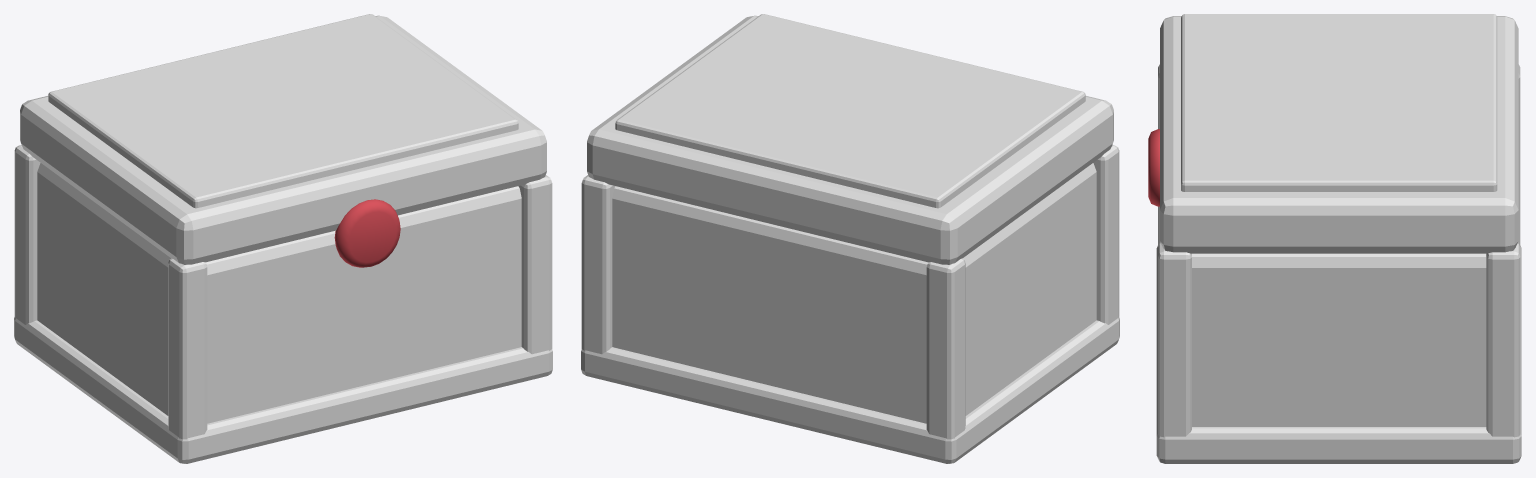
Rendered from SM_Box_WoodCrate.fbx.
The picture shows the model from 3 angles, left to right: view 1: azimuth 30°, elevation 25°; view 2: azimuth 150°, elevation 25°; view 3: azimuth 270°, elevation 25°; orthographic projection. The views are drawn at different scales.
Visible parts, largest first — view 1: LidPivot, Body, BaseRim, Corner_1_-1, Corner_1_1, Corner_-1_-1, SealPart; view 2: LidPivot, Body, BaseRim, Corner_-1_-1, Corner_-1_1, Corner_1_-1; view 3: LidPivot, Body, BaseRim, Corner_-1_1, Corner_1_1, SealPart, Corner_-1_-1.
Part boxes in pixels (x1,y1,x2,y2): LidPivot: (20, 14, 546, 264); Body: (37, 163, 521, 423); BaseRim: (14, 317, 552, 463); Corner_1_-1: (168, 258, 207, 439); Corner_1_1: (518, 175, 552, 354); Corner_-1_-1: (14, 145, 40, 324); SealPart: (334, 199, 400, 267); LidPivot: (587, 14, 1113, 264); Body: (612, 163, 1096, 423); BaseRim: (581, 317, 1119, 463); Corner_-1_-1: (926, 258, 965, 439); Corner_-1_1: (581, 175, 615, 354); Corner_1_-1: (1093, 145, 1119, 324); LidPivot: (1160, 14, 1518, 253); Body: (1192, 253, 1486, 426); BaseRim: (1156, 245, 1521, 463); Corner_-1_1: (1486, 243, 1520, 437); Corner_1_1: (1158, 243, 1191, 437); SealPart: (1148, 129, 1159, 206); Corner_-1_-1: (1518, 64, 1520, 246).
Size of the model in its own units: 0.38 by 0.247 by 0.307.
